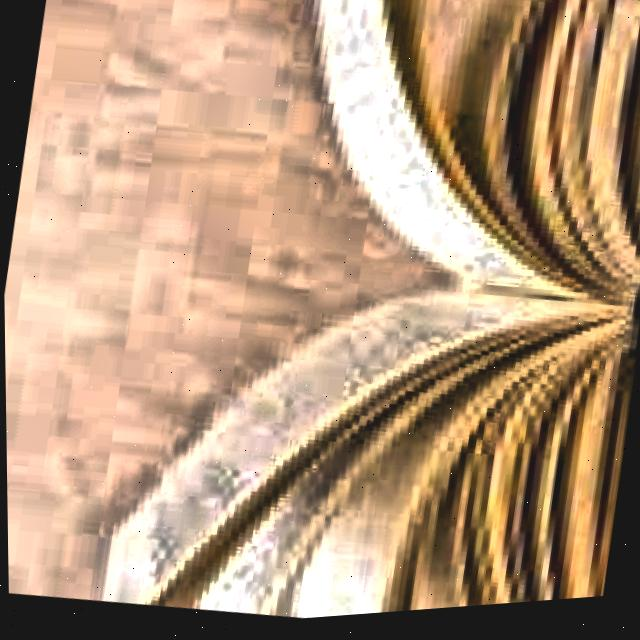paper: (72, 0, 640, 636), (75, 236, 640, 636), (250, 0, 640, 335)
